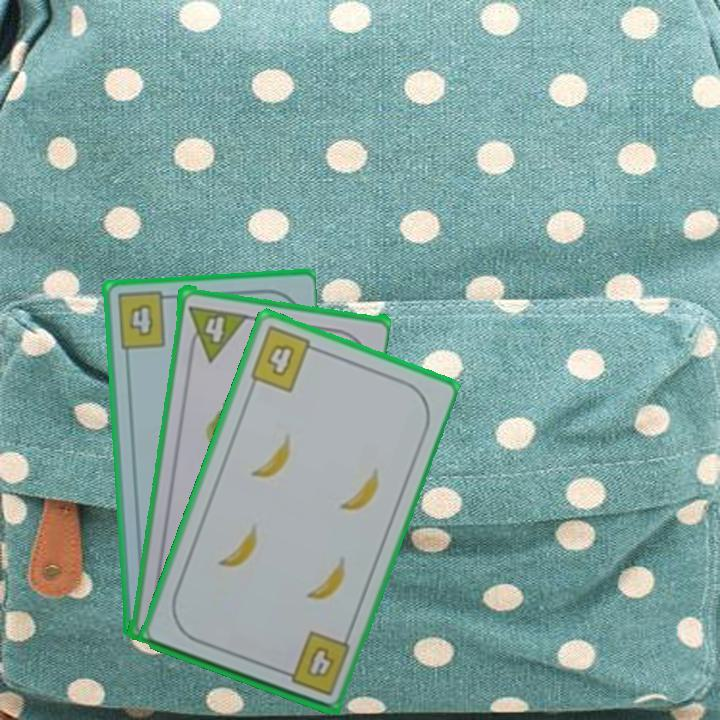4b: (246, 322, 323, 395), (275, 627, 353, 698), (113, 288, 176, 352)
4p: (200, 310, 248, 363)
